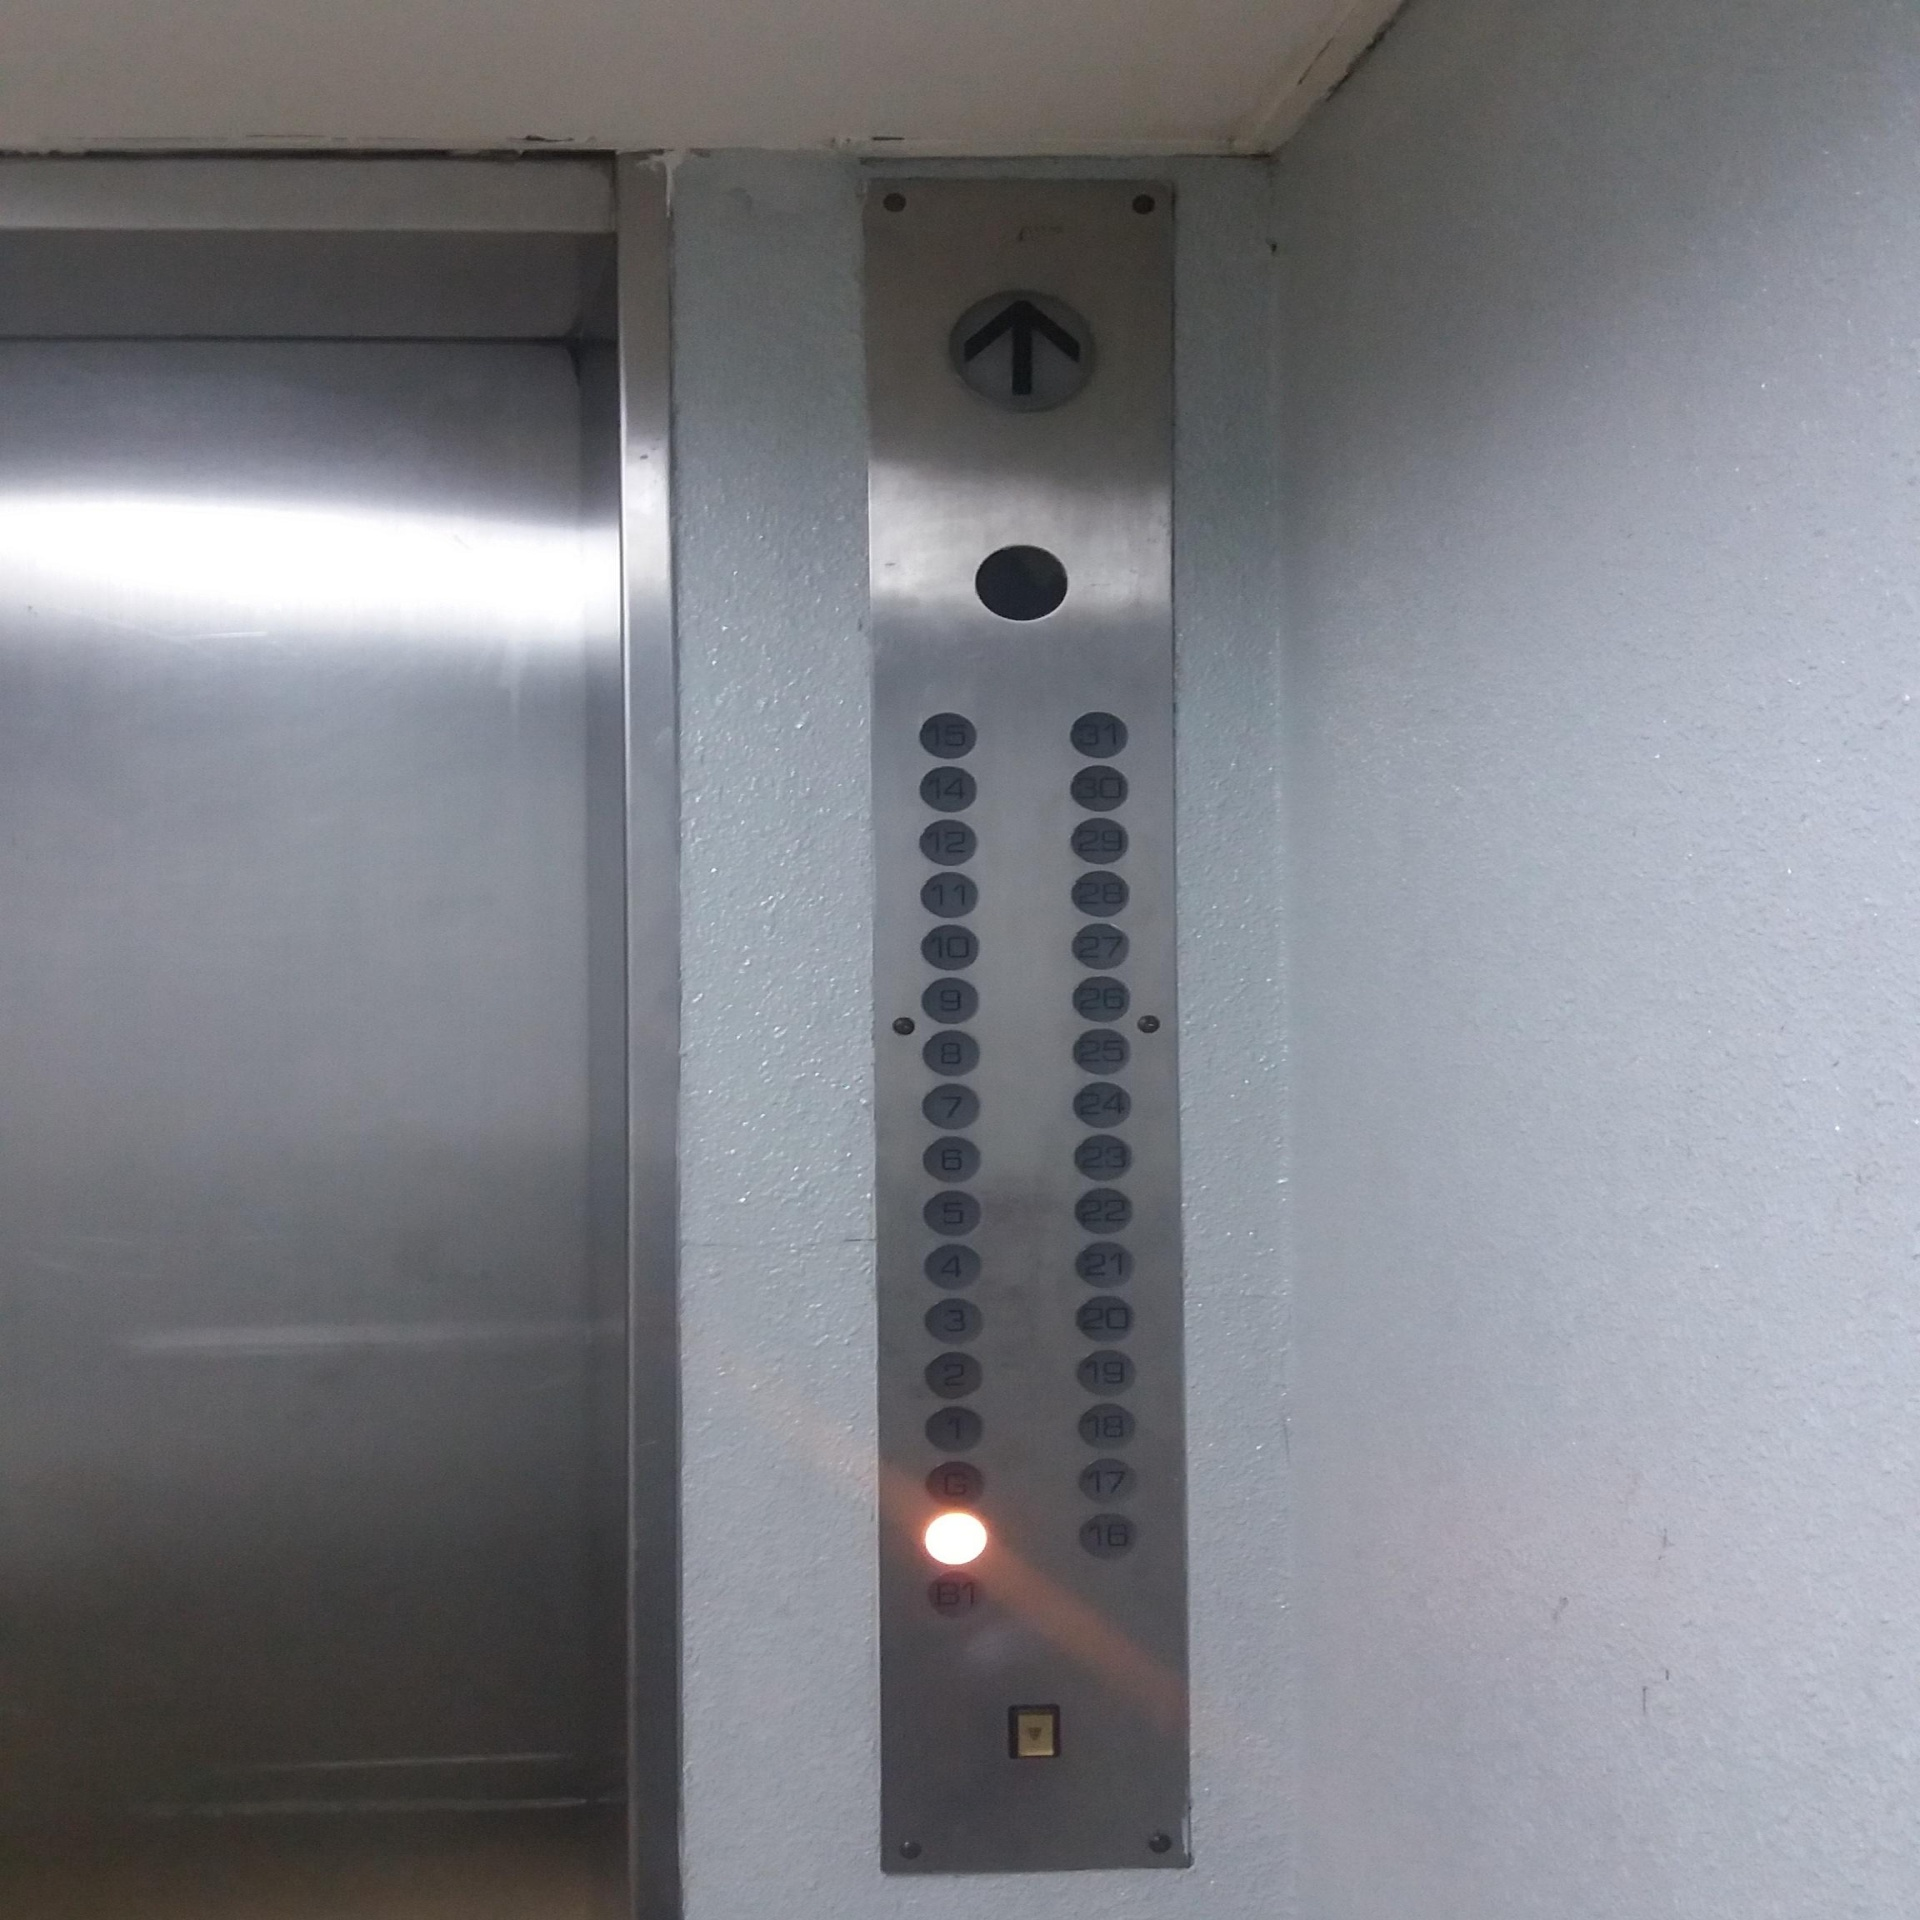1: (925, 1405, 985, 1452)
10: (921, 925, 983, 969)
11: (920, 870, 979, 920)
12: (920, 818, 978, 867)
14: (918, 765, 978, 812)
15: (918, 714, 978, 761)
16: (1080, 1514, 1138, 1561)
17: (1080, 1458, 1138, 1505)
18: (1078, 1403, 1136, 1451)
19: (1076, 1350, 1136, 1398)
2: (925, 1352, 985, 1400)
20: (1074, 1296, 1136, 1343)
21: (1074, 1241, 1136, 1289)
22: (1074, 1187, 1132, 1234)
23: (1074, 1134, 1132, 1182)
24: (1073, 1081, 1132, 1129)
25: (1073, 1029, 1132, 1078)
26: (1073, 976, 1131, 1022)
27: (1073, 923, 1129, 969)
28: (1071, 870, 1132, 918)
29: (1071, 818, 1129, 865)
3: (925, 1296, 986, 1343)
30: (1071, 765, 1129, 812)
31: (1071, 712, 1129, 760)
4: (921, 1243, 983, 1291)
5: (923, 1192, 983, 1238)
6: (923, 1136, 983, 1183)
7: (921, 1081, 983, 1129)
8: (923, 1032, 979, 1080)
9: (920, 978, 979, 1025)
B1: (928, 1574, 985, 1619)
G: (925, 1459, 985, 1509)
down: (1006, 1700, 1060, 1762)
empty: (965, 535, 1074, 628), (923, 1510, 988, 1567)
up: (949, 281, 1101, 410)
